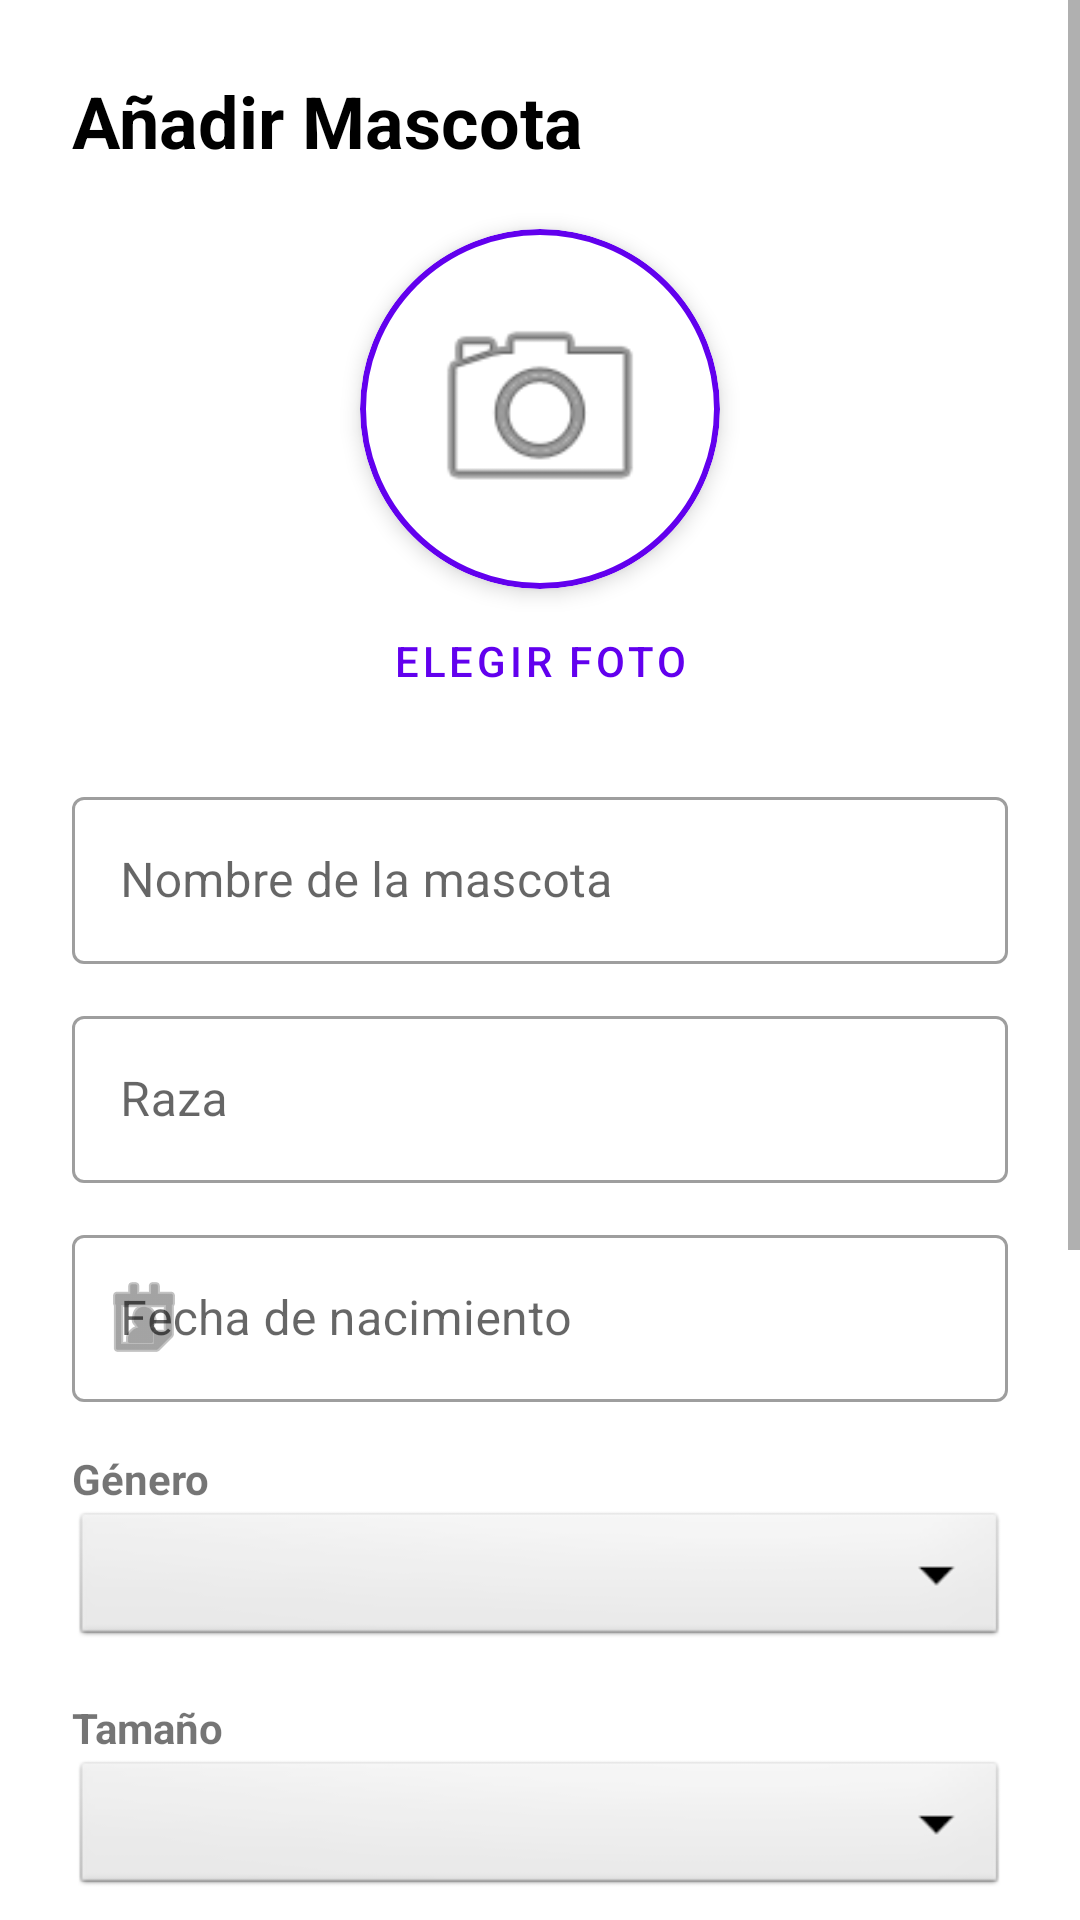

Icon bounding boxes for this 1080px x 1920px phone screenshot, format (x1, y1, x2, y2):
camera: (360, 229, 720, 589)
